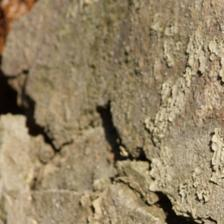Crack: (0, 70, 90, 224), (14, 39, 102, 156)
